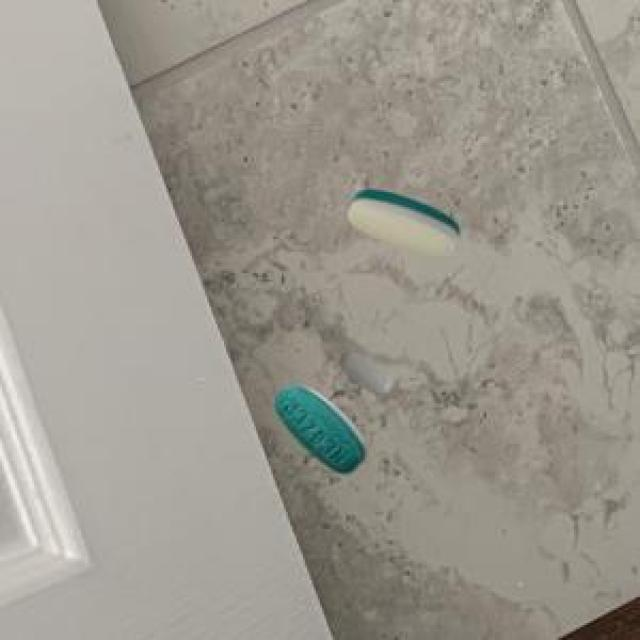Neozep: (265, 363, 374, 496), (334, 175, 474, 274)
